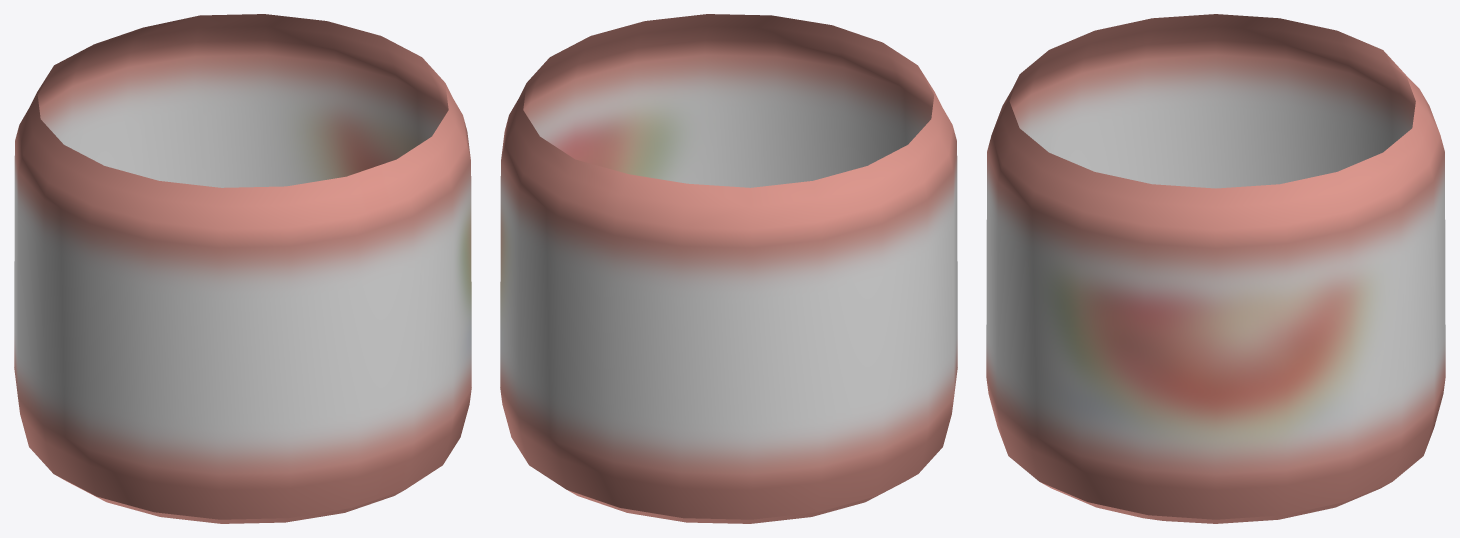
The model's file is jam2.obj.
3 views of the same model, side by side, from view 1: azimuth 30°, elevation 25°; view 2: azimuth 150°, elevation 25°; view 3: azimuth 270°, elevation 25° (orthographic).
Visible parts, largest first — view 1: polySurface1 group2; view 2: polySurface1 group2; view 3: polySurface1 group2.
Boxes of the visible parts, x1,y1,x2,y2 form: polySurface1 group2: [14, 14, 471, 523]; polySurface1 group2: [500, 14, 957, 523]; polySurface1 group2: [986, 14, 1445, 523].
Bounding box in the file's own units: 16.67 × 13.49 × 16.67.
